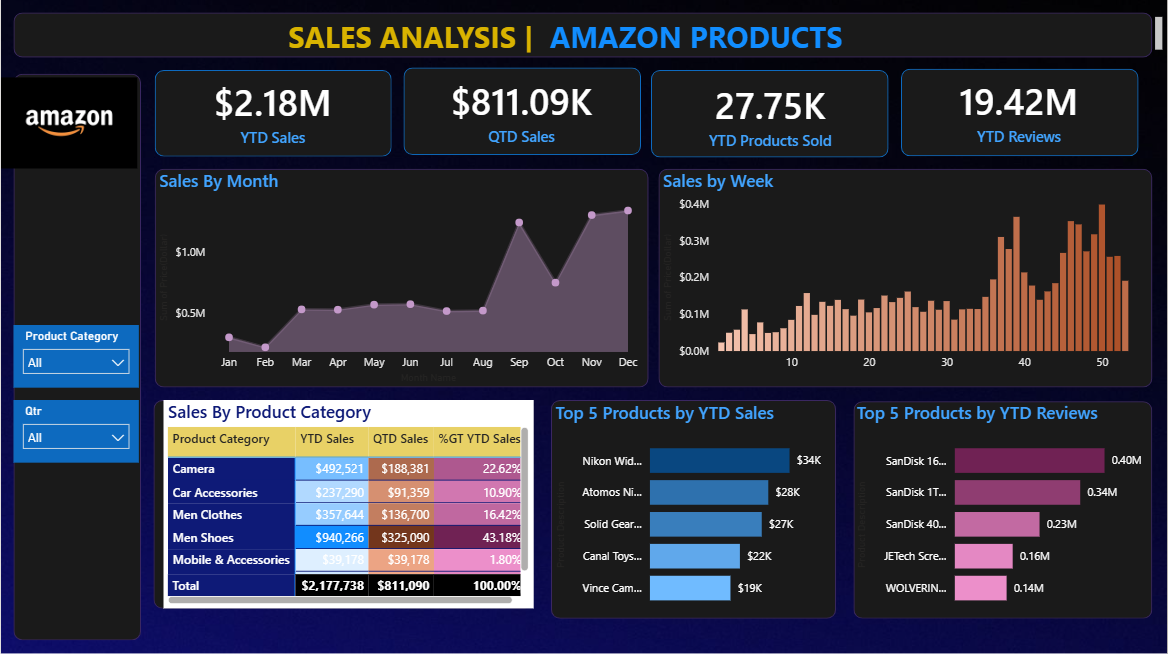

Layout of this report page (visuals, bound fields, positions):
{"tool":"powerbi","page":{"name":"Page 1","canvas":[1280,720],"ordinal":0},"visuals":[{"type":"shape","box":[13.7,13.7,1250.1,49.4],"z":0},{"type":"shape","box":[441.9,74.1,260.7,96.1],"z":0,"group":"g1"},{"type":"textbox","box":[310.1,13.7,970.2,49.4],"z":1000},{"type":"shape","box":[13.7,81,140,622],"z":2000},{"type":"shape","box":[168.8,185.2,542,240.1],"z":3000},{"type":"group","id":"g1","title":"Group 1","box":[168.8,74.1,1079.9,98.8],"z":4000},{"type":"shape","box":[168.8,76.8,260,95],"z":4000,"group":"g1"},{"type":"card","fields":{"Values":["Amazon_Data.YTD Sales"]},"box":[168.8,75.5,259.3,94.7],"z":5000,"group":"g1"},{"type":"areaChart","title":"Sales By Month","fields":{"Category":["Date Table.Month Name"],"Y":["Sum(Amazon_Data.Price(Dollar))"]},"box":[168.8,185.2,540.7,240.1],"z":5000},{"type":"shape","box":[721.8,185.2,542,240.1],"z":6000},{"type":"shape","box":[713.6,76.8,260.7,96.1],"z":7000,"group":"g1"},{"type":"columnChart","title":"Sales by Week","fields":{"Category":["Date Table.Week"],"Y":["Sum(Amazon_Data.Price(Dollar))"]},"box":[721.8,185.2,542,240.1],"z":7000},{"type":"shape","box":[988,75.5,260.7,96.1],"z":8000,"group":"g1"},{"type":"shape","box":[167.4,439.1,417.2,229.2],"z":8000},{"type":"card","fields":{"Values":["Amazon_Data.QTD Sales"]},"box":[441.9,74.1,259.3,94.7],"z":9000,"group":"g1"},{"type":"shape","box":[603.8,439.1,312.9,240.1],"z":9000},{"type":"card","fields":{"Values":["Amazon_Data.YTD Products Sold"]},"box":[714.9,78.2,259.3,94.7],"z":10000,"group":"g1"},{"type":"pivotTable","title":"Sales  By Product Category","fields":{"Rows":["Amazon_Data.Product Category"],"Values":["Amazon_Data.YTD Sales1","Amazon_Data.QTD Sales","Amazon_Data.YTD Sales"]},"box":[178.4,439.1,406.2,229.2],"z":10000},{"type":"card","fields":{"Values":["Amazon_Data.YTD Reviews"]},"box":[988,74.1,259.3,94.7],"z":11000,"group":"g1"},{"type":"shape","box":[935.9,440.5,328,238.8],"z":11000},{"type":"clusteredBarChart","title":"Top 5 Products by YTD Sales","fields":{"Category":["Amazon_Data.Product Description"],"Y":["Amazon_Data.YTD Sales"]},"box":[603.8,440.5,312.9,238.8],"z":12000},{"type":"clusteredBarChart","title":"Top 5 Products by YTD Reviews","fields":{"Category":["Amazon_Data.Product Description"],"Y":["Amazon_Data.YTD Reviews"]},"box":[934.5,440.5,329.3,238.8],"z":13000},{"type":"slicer","fields":{"Values":["Amazon_Data.Product Category"]},"box":[13.7,356.8,137.2,68.6],"z":14000},{"type":"slicer","fields":{"Values":["Date Table.Qtr"]},"box":[13.7,439.1,137.2,68.6],"z":15000},{"type":"image","box":[0,81,149.6,108.4],"z":15002}]}

Visuals, with their boxes in screenshot pixels (x1, y1, x2, y2), scaled from the page's 1280x720 canvas onto the 1168x654 screenshot:
shape: 13:12:1153:57
shape: 403:67:641:155
textbox: 283:12:1167:57
shape: 13:74:140:639
shape: 154:168:649:386
"Group 1" group: 154:67:1139:157
shape: 154:70:391:156
card - Amazon_Data.YTD Sales: 154:69:391:155
"Sales By Month" areaChart: 154:168:647:386
shape: 659:168:1153:386
shape: 651:70:889:157
"Sales by Week" columnChart: 659:168:1153:386
shape: 902:69:1139:156
shape: 153:399:533:607
card - Amazon_Data.QTD Sales: 403:67:640:153
shape: 551:399:836:617
card - Amazon_Data.YTD Products Sold: 652:71:889:157
"Sales  By Product Category" pivotTable: 163:399:533:607
card - Amazon_Data.YTD Reviews: 902:67:1138:153
shape: 854:400:1153:617
"Top 5 Products by YTD Sales" clusteredBarChart: 551:400:836:617
"Top 5 Products by YTD Reviews" clusteredBarChart: 853:400:1153:617
slicer - Amazon_Data.Product Category: 13:324:138:386
slicer - Date Table.Qtr: 13:399:138:461
image: 0:74:137:172
